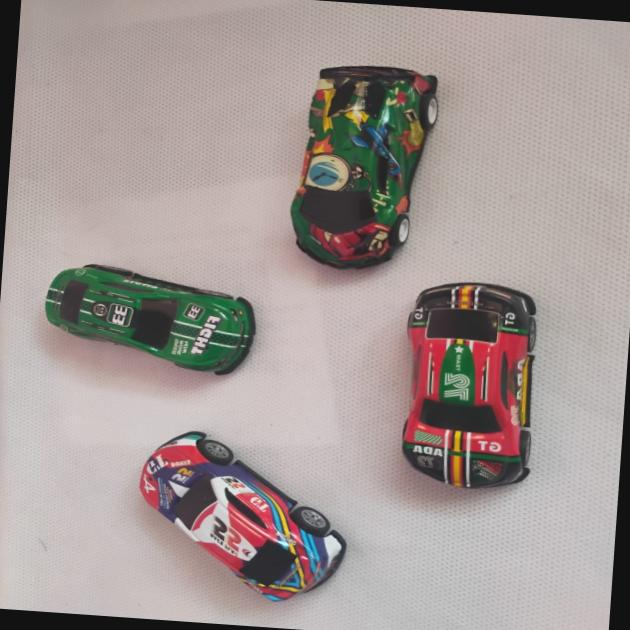toy car: (388, 263, 562, 549), (124, 416, 374, 610), (296, 58, 450, 281), (38, 247, 266, 389)
